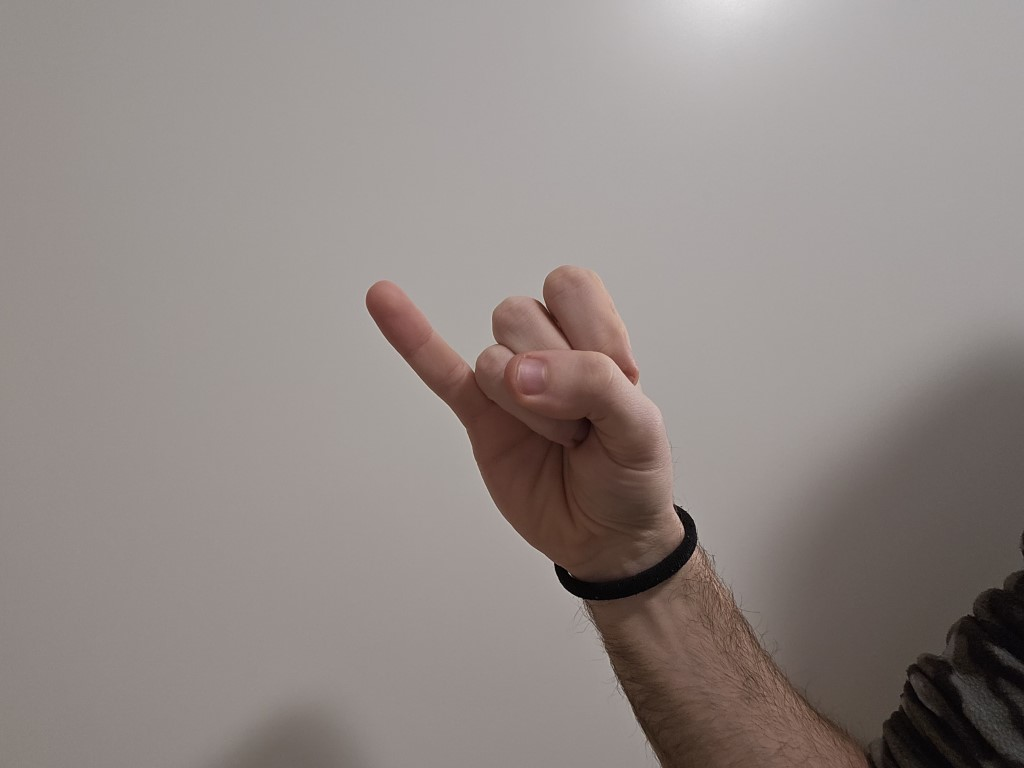j: (332, 231, 677, 561)
